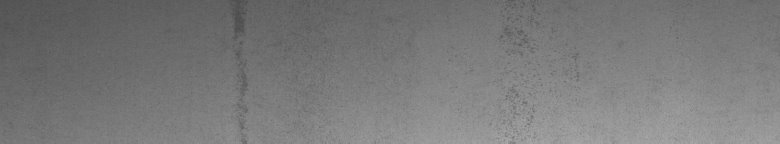ib: (499, 16, 578, 126)
